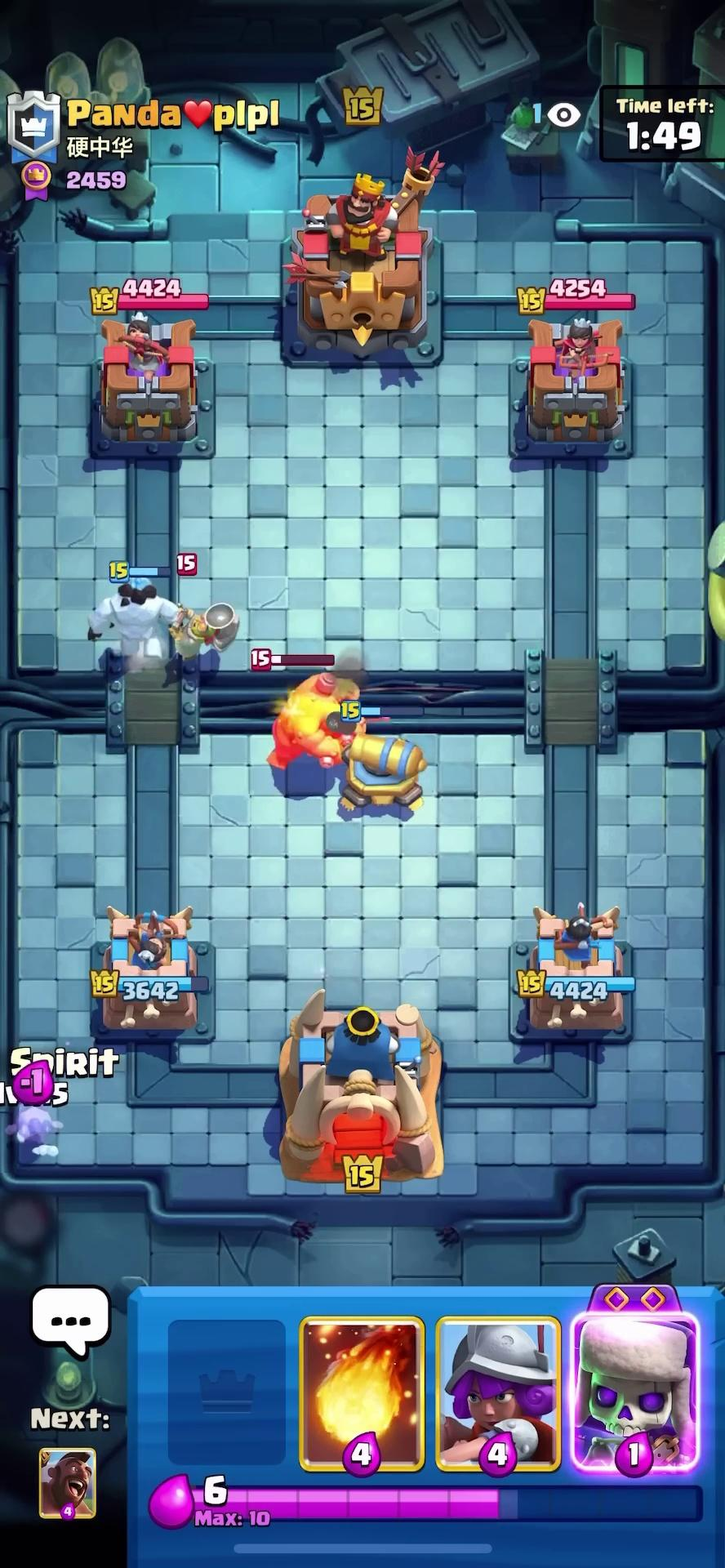cannon: (329, 710, 425, 821)
ice_golem: (82, 566, 180, 653)
